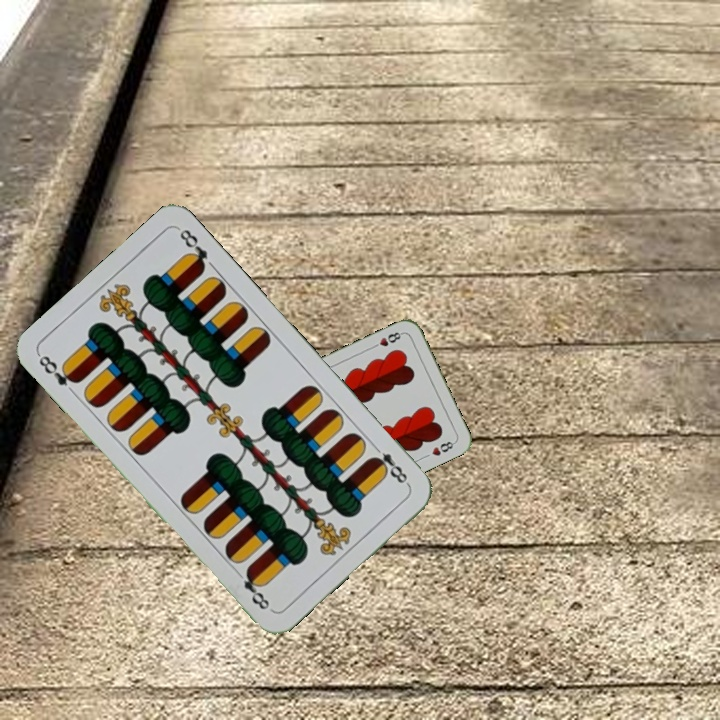E8: (366, 440, 412, 489), (34, 351, 82, 388)
H8: (367, 328, 406, 351)
